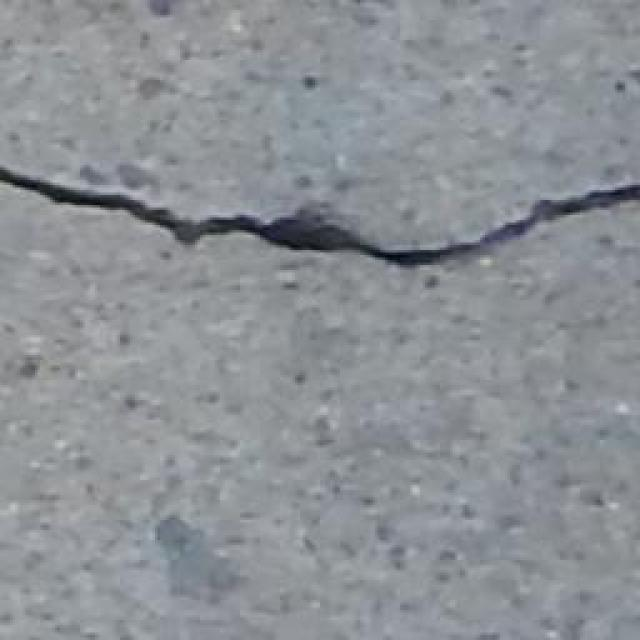concrete-crack: (0, 159, 638, 284)
